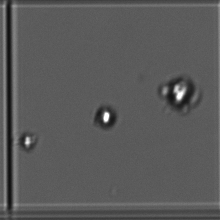Living Cell: (156, 71, 198, 112), (92, 100, 117, 134), (15, 131, 39, 154)
